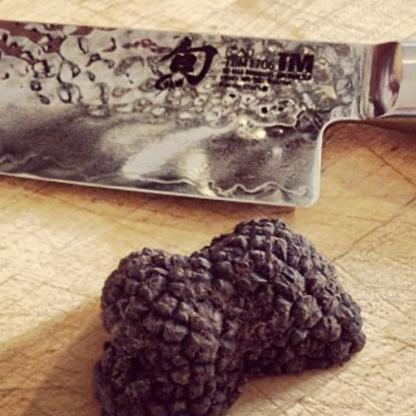knife: (0, 5, 415, 204)
